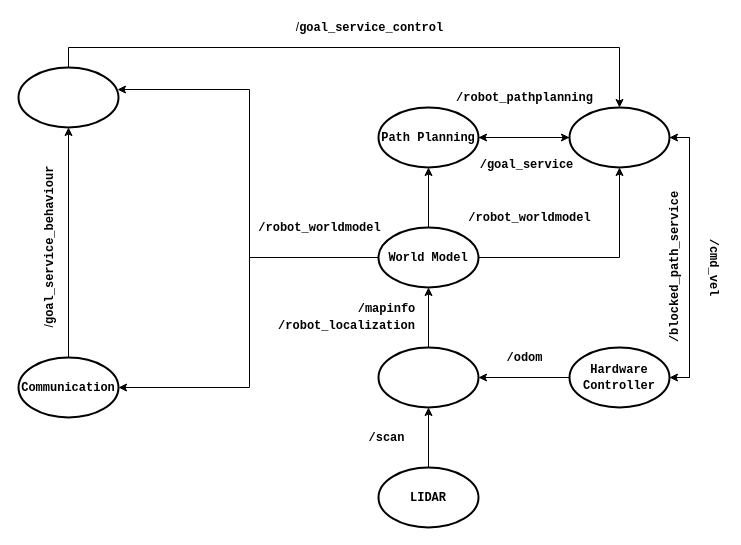
Some shapes in this 741 by 545 pixel diagram are drawn without their labels. Here are the shapes that lost their labels. From the top down, the centre of each, then its label:
At (68,97): "Behaviour".
At (619,137): "Robot Control".
At (428,377): "SLAM".
